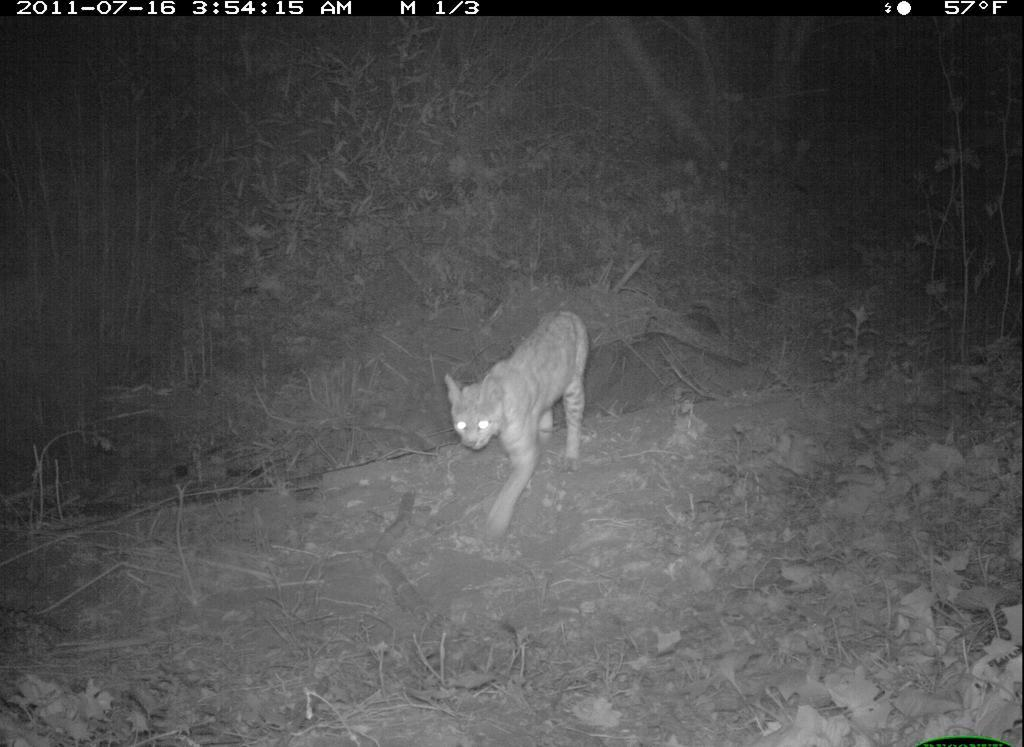bobcat: (441, 305, 593, 546)
